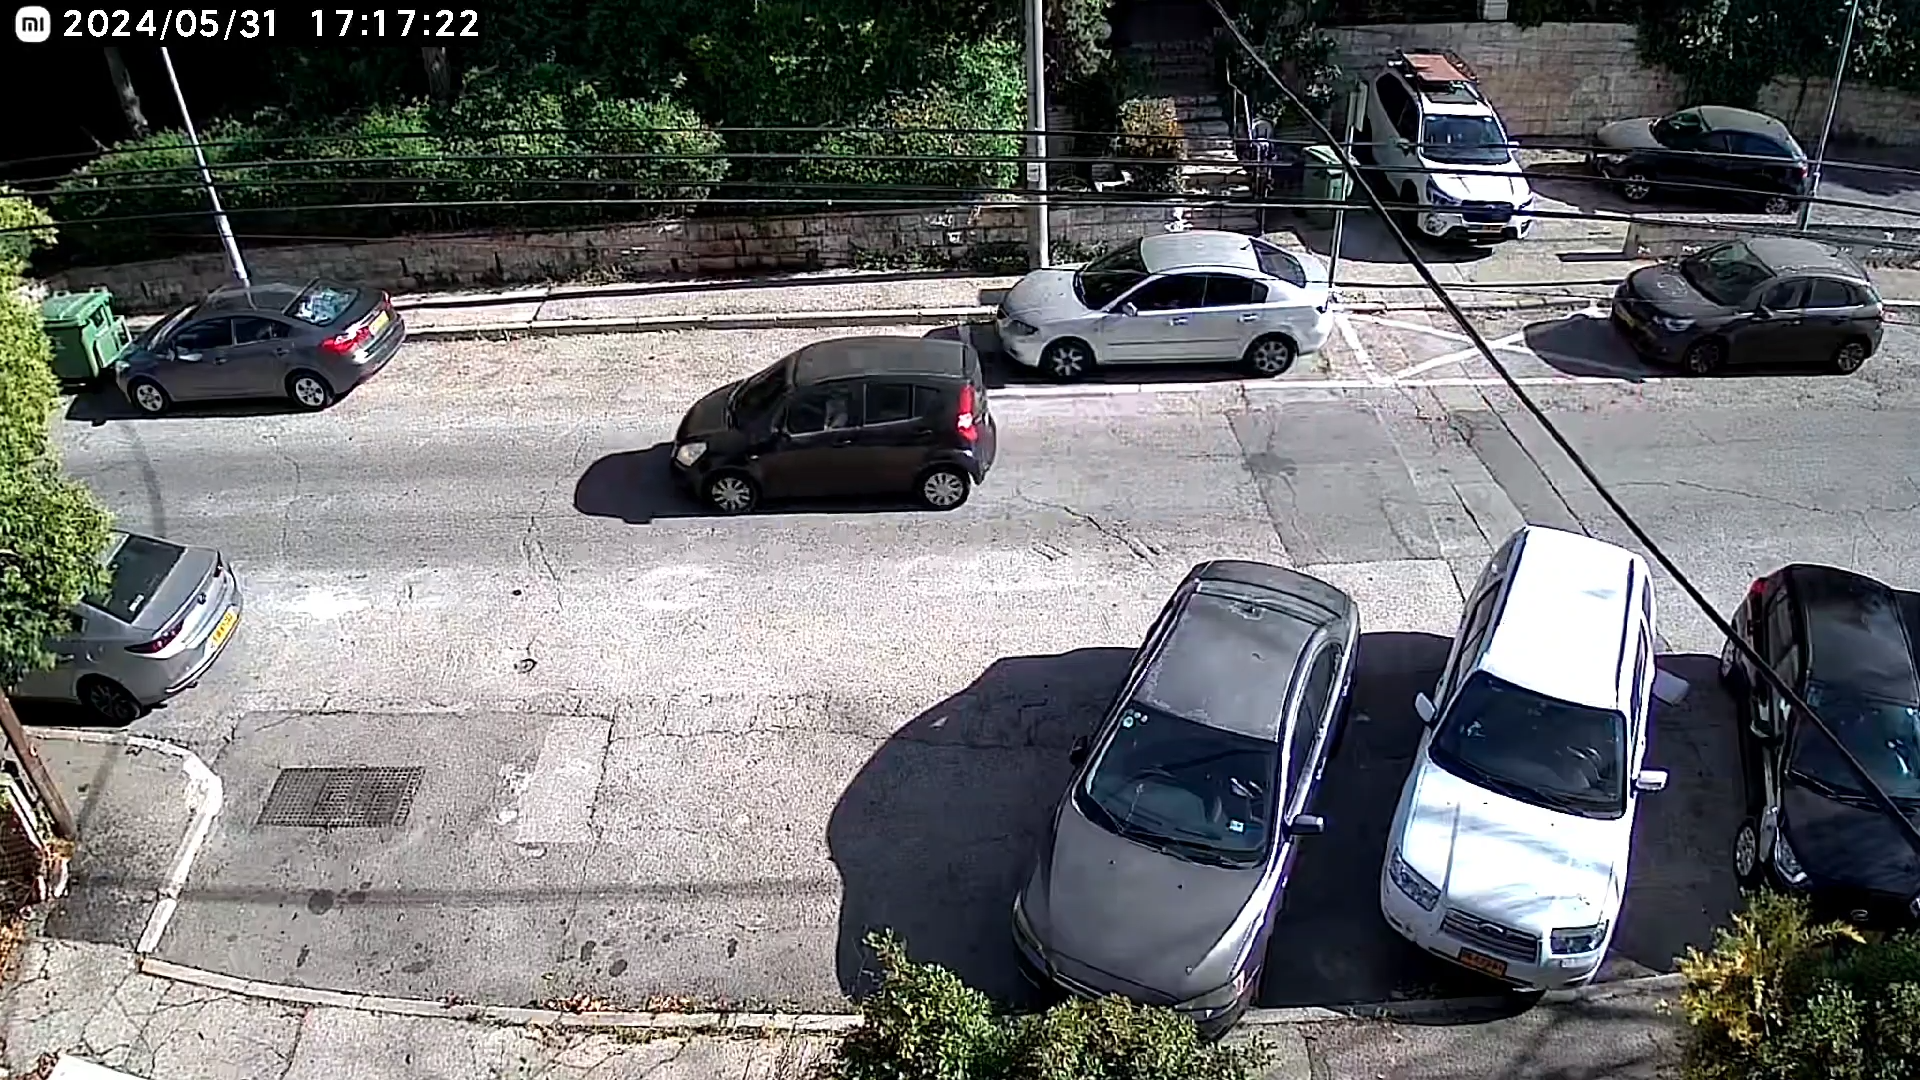moving_car: (349, 456, 738, 640)
